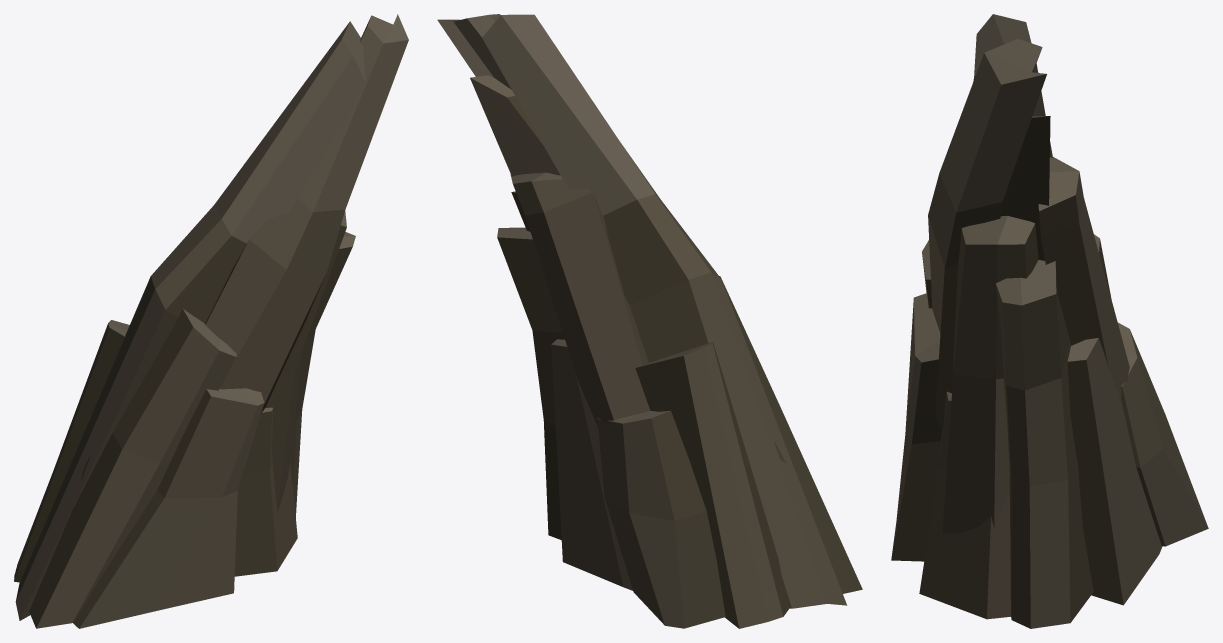
File: caillou mechant3.fbx
3 renders of one model, left to right at view 1: azimuth 30°, elevation 25°; view 2: azimuth 150°, elevation 25°; view 3: azimuth 270°, elevation 25°, orthographic. The views are drawn at different scales.
Visible parts, largest first — view 1: caillou_mechant_3; view 2: caillou_mechant_3; view 3: caillou_mechant_3.
Part boxes in pixels (<box>): caillou_mechant_3: <box>14,14,408,628</box>; caillou_mechant_3: <box>437,14,862,628</box>; caillou_mechant_3: <box>891,14,1208,628</box>.
Size of the model in its own units: 8.26 by 10.27 by 4.41.
